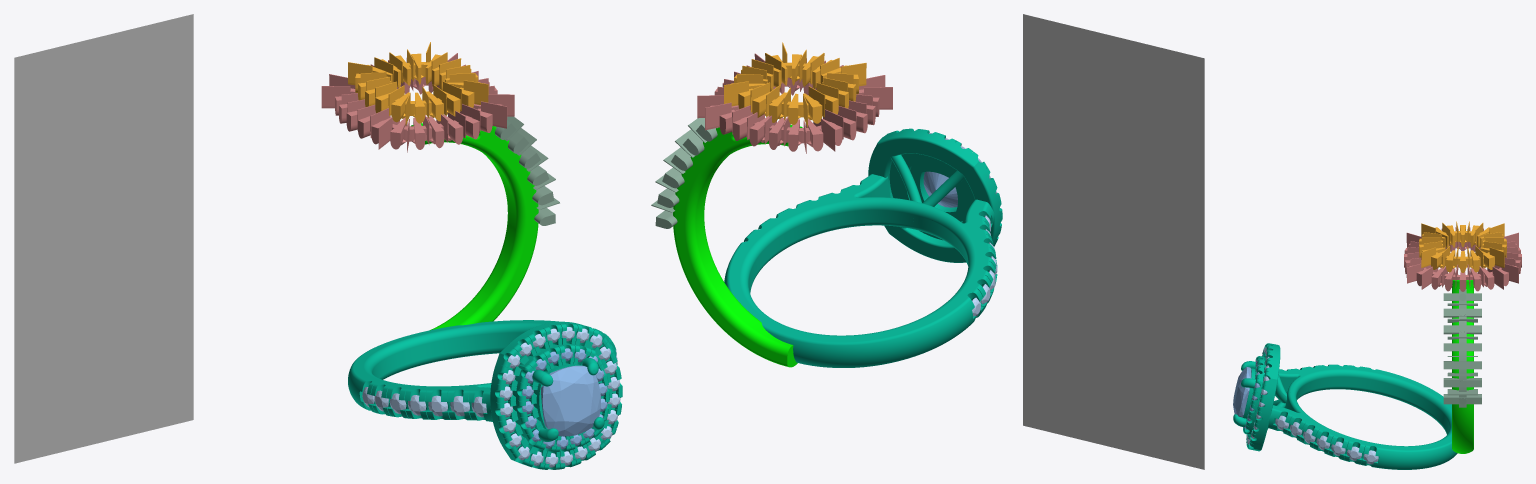
The picture shows the model from 3 angles, left to right: view 1: azimuth 30°, elevation 25°; view 2: azimuth 150°, elevation 25°; view 3: azimuth 270°, elevation 25°; orthographic projection. The views are drawn at different scales.
Parts seen in each view (by area): view 1: VR880 24.8.25(base).3dm, Diamond_Cushion Square; view 2: VR880 24.8.25(base).3dm, Bezel, Diamond_Cushion Square; view 3: VR880 24.8.25(base).3dm, Micro Pave Cut Channel Cutter (×6), Channel Cutter (×2), Diamond_Cushion Square.
Part boxes in pixels (x1,y1,x2,y2): VR880 24.8.25(base).3dm: (14, 14, 622, 469); Diamond_Cushion Square: (541, 365, 600, 436); VR880 24.8.25(base).3dm: (673, 14, 1204, 469); Bezel: (910, 165, 965, 221); Diamond_Cushion Square: (923, 171, 957, 207); VR880 24.8.25(base).3dm: (1243, 280, 1473, 469); Micro Pave Cut Channel Cutter (×6): (1443, 308, 1481, 404); Channel Cutter (×2): (1436, 231, 1489, 407); Diamond_Cushion Square: (1233, 367, 1251, 417).
Size of the model in its own units: 5.54 by 4.02 by 3.6.
